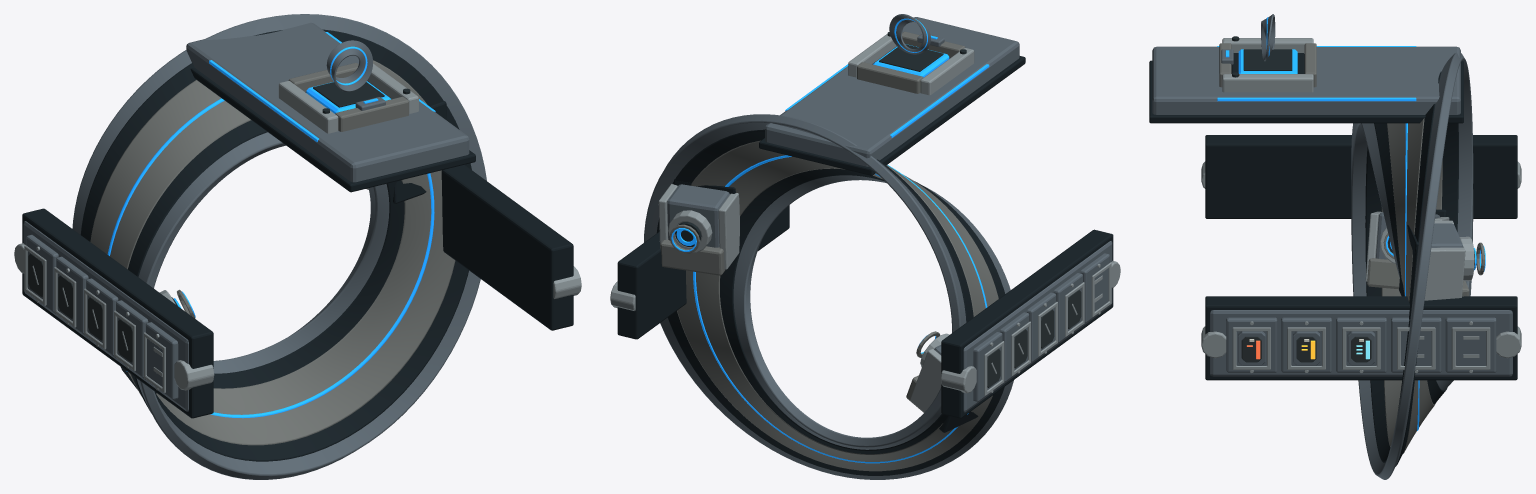
The model's file is MobiusEchoWeaver.glb.
3 views of the same model, side by side, from view 1: azimuth 30°, elevation 25°; view 2: azimuth 150°, elevation 25°; view 3: azimuth 270°, elevation 25° (orthographic). The views are drawn at different scales.
Parts seen in each view (by area): view 1: Mobius_TwistedCeramicLaminate, Mobius_BroadContinuousForearmBand, Mobius_BondedGraphiteInnerWall, Mobius_DorsalDockBridge, Mobius_SidePanelGasket_1, Mobius_SidePanelGasket_-1, Mobius_DorsalIsolationLayer, Mobius_BondedSideControlPanel_-1, Mobius_ContinuousTemporalSeam, Bay 06 | fitted mounting tile, Dock | fitted side rail -1, MobiusInsert_HalfTwistSolid (+11 smaller); view 2: Mobius_BroadContinuousForearmBand, Mobius_TwistedCeramicLaminate, Mobius_DorsalDockBridge, Mobius_BondedGraphiteInnerWall, Mobius_SidePanelGasket_-1, Mobius_SidePanelGasket_1, Mobius_DorsalIsolationLayer, Mobius_BondedSideControlPanel_-1, Mobius_EmitterArmoredBody_0, Mobius_EmitterRearCeramicJacket_0, Mobius_ContinuousTemporalSeam, Mobius_EmitterCapturedRail_0_1 (+15 smaller); view 3: Mobius_SidePanelGasket_-1, Mobius_DorsalDockBridge, Mobius_BroadContinuousForearmBand, Mobius_BondedGraphiteInnerWall, Mobius_SidePanelGasket_1, Mobius_BondedSideControlPanel_1, Mobius_TwistedCeramicLaminate, Mobius_DorsalIsolationLayer, Bay 05 | fitted mounting tile, Mobius_EmitterCapturedRail_0_-1, Dock | fitted side rail 1, Bay 04 | fitted mounting tile (+27 smaller).
Boxes of the visible parts, x1,y1,x2,y2 form: Mobius_TwistedCeramicLaminate: (90, 60, 455, 445); Mobius_BroadContinuousForearmBand: (72, 14, 486, 479); Mobius_BondedGraphiteInnerWall: (80, 29, 471, 461); Mobius_DorsalDockBridge: (186, 22, 469, 182); Mobius_SidePanelGasket_1: (441, 164, 573, 330); Mobius_SidePanelGasket_-1: (22, 208, 213, 418); Mobius_DorsalIsolationLayer: (190, 68, 475, 192); Mobius_BondedSideControlPanel_-1: (23, 221, 188, 411); Mobius_ContinuousTemporalSeam: (107, 98, 434, 418); Bay 06 | fitted mounting tile: (145, 322, 178, 399); Dock | fitted side rail -1: (278, 81, 338, 133); MobiusInsert_HalfTwistSolid: (326, 40, 372, 91); Mobius_BroadContinuousForearmBand: (644, 114, 1013, 479); Mobius_TwistedCeramicLaminate: (677, 140, 998, 471); Mobius_DorsalDockBridge: (765, 17, 1019, 166); Mobius_BondedGraphiteInnerWall: (656, 129, 1004, 475); Mobius_SidePanelGasket_-1: (941, 229, 1113, 418); Mobius_SidePanelGasket_1: (617, 205, 789, 339); Mobius_DorsalIsolationLayer: (759, 56, 1025, 175); Mobius_BondedSideControlPanel_-1: (963, 241, 1112, 412); Mobius_EmitterArmoredBody_0: (667, 184, 729, 247); Mobius_EmitterRearCeramicJacket_0: (660, 238, 725, 275); Mobius_ContinuousTemporalSeam: (693, 155, 987, 463); Mobius_EmitterCapturedRail_0_1: (718, 193, 739, 269); Mobius_SidePanelGasket_-1: (1205, 135, 1517, 218); Mobius_DorsalDockBridge: (1152, 46, 1460, 114); Mobius_BroadContinuousForearmBand: (1351, 52, 1473, 479); Mobius_BondedGraphiteInnerWall: (1365, 71, 1458, 466); Mobius_SidePanelGasket_1: (1205, 296, 1517, 380); Mobius_BondedSideControlPanel_1: (1210, 310, 1512, 376); Mobius_TwistedCeramicLaminate: (1381, 118, 1442, 453); Mobius_DorsalIsolationLayer: (1149, 60, 1463, 123); Bay 05 | fitted mounting tile: (1445, 317, 1496, 372); Mobius_EmitterCapturedRail_0_-1: (1424, 247, 1465, 300); Dock | fitted side rail 1: (1222, 74, 1313, 92); Bay 04 | fitted mounting tile: (1391, 317, 1441, 372).
Size of the model in its own units: 0.2195 by 0.2379 by 0.1834.
